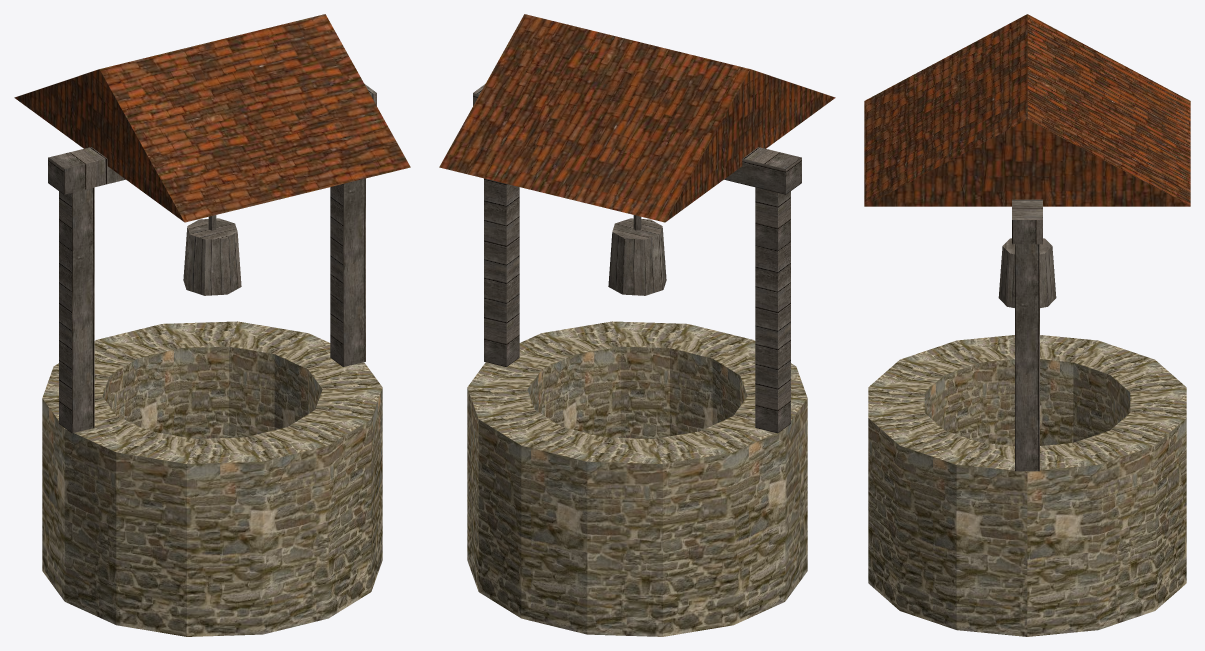
File: well_01.glb
3 renders of one model, left to right at view 1: azimuth 30°, elevation 25°; view 2: azimuth 150°, elevation 25°; view 3: azimuth 270°, elevation 25°, orthographic. The views are drawn at different scales.
Visible parts, largest first — view 1: well_01; view 2: well_01; view 3: well_01.
Part boxes in pixels (x1,y1,x2,y2): well_01: [14, 14, 410, 636]; well_01: [439, 14, 835, 636]; well_01: [864, 14, 1190, 636].
Size of the model in its own units: 1.8 by 2.88 by 1.7.
3 materials, 3 textured.
